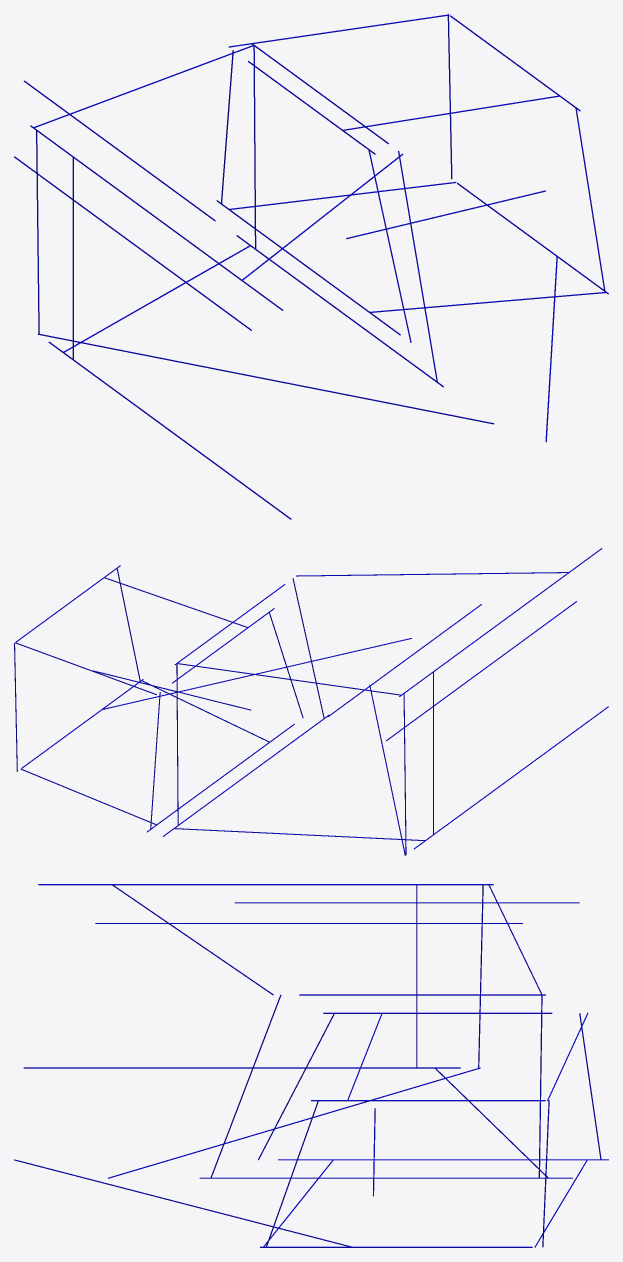
Rendered from corrected_3d_strokes.glb.
3 views of the same model, one above another, from view 1: azimuth 30°, elevation 25°; view 2: azimuth 150°, elevation 25°; view 3: azimuth 270°, elevation 25° (orthographic). The views are drawn at different scales.
Parts seen in each view (by area): view 1: world; view 2: world; view 3: world.
Part boxes in pixels (<box>): world: <box>14,14,608,519</box>; world: <box>14,548,608,855</box>; world: <box>14,884,608,1247</box>.
Bounding box in the file's own units: 15 × 6.51 × 19.04.
